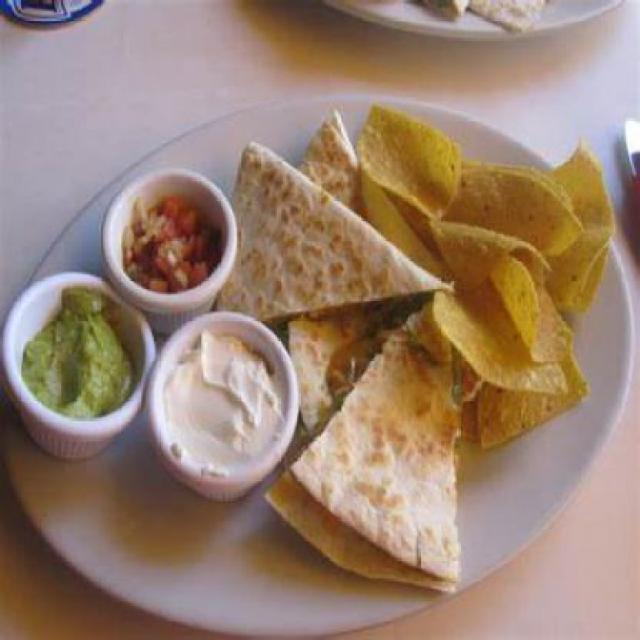chicken quesadilla: (219, 107, 463, 602)
guacamole: (15, 275, 144, 439)
nachos: (354, 88, 618, 454)
